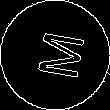M_W: (26, 28, 84, 82)
